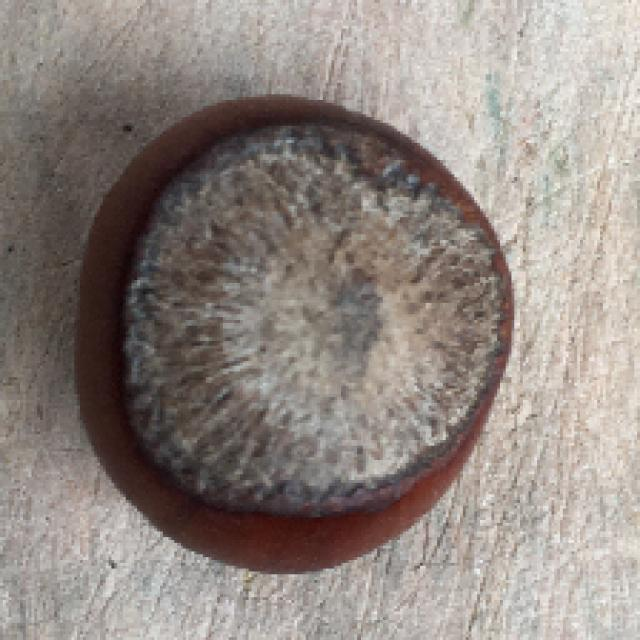QualityHazelnut: (76, 93, 515, 579)
